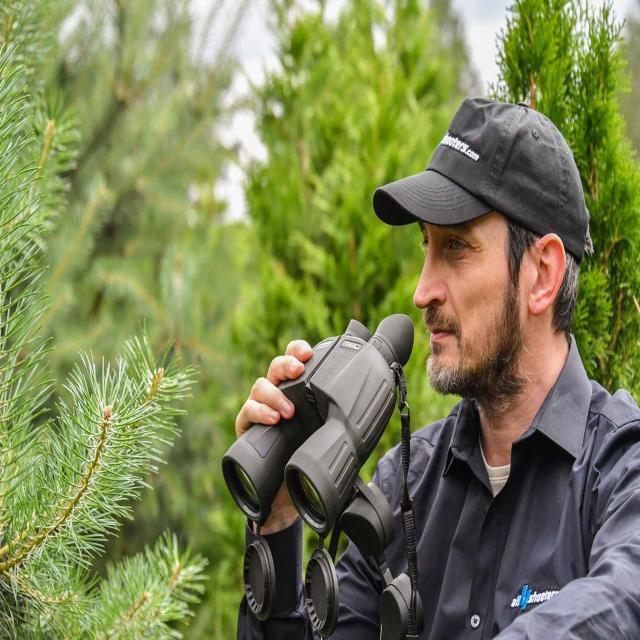Binocular: (212, 296, 418, 532)
